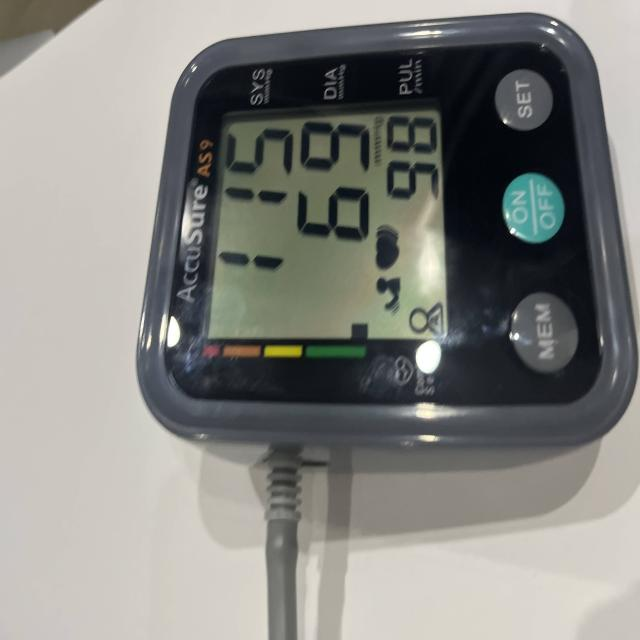bp: (135, 13, 640, 485)
